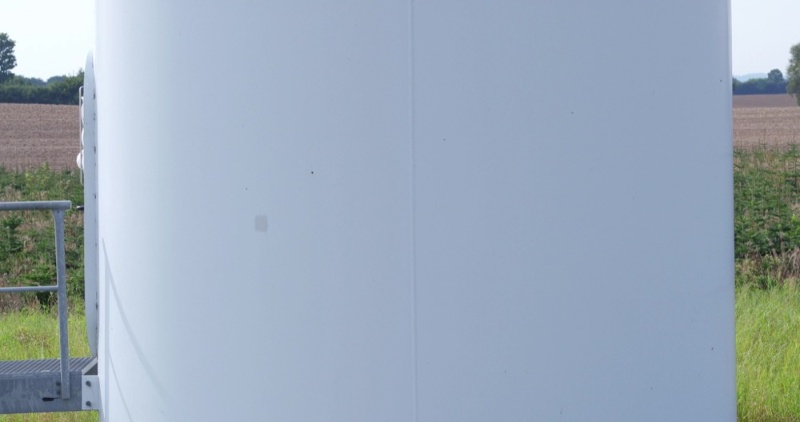weldseam: (401, 1, 426, 421)
